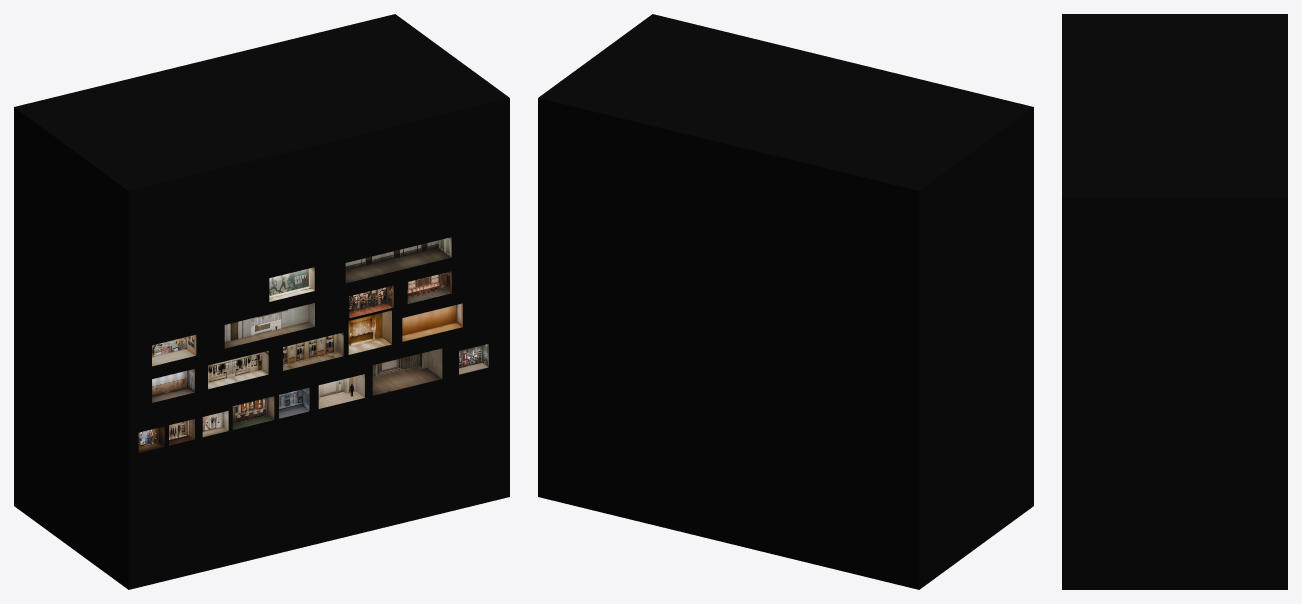
3 renders of one model, left to right at view 1: azimuth 30°, elevation 25°; view 2: azimuth 150°, elevation 25°; view 3: azimuth 270°, elevation 25°, orthographic.
Visible parts, largest first — view 1: Cube.002, Cube; view 2: Cube.002; view 3: Cube.002.
Boxes of the visible parts, <box> form: Cube.002: <box>14,14,509,589</box>; Cube: <box>138,237,488,452</box>; Cube.002: <box>538,14,1033,589</box>; Cube.002: <box>1062,14,1287,589</box>.
Size of the model in its own units: 58.62 by 58.62 by 30.55.
3 materials, 1 textured.
